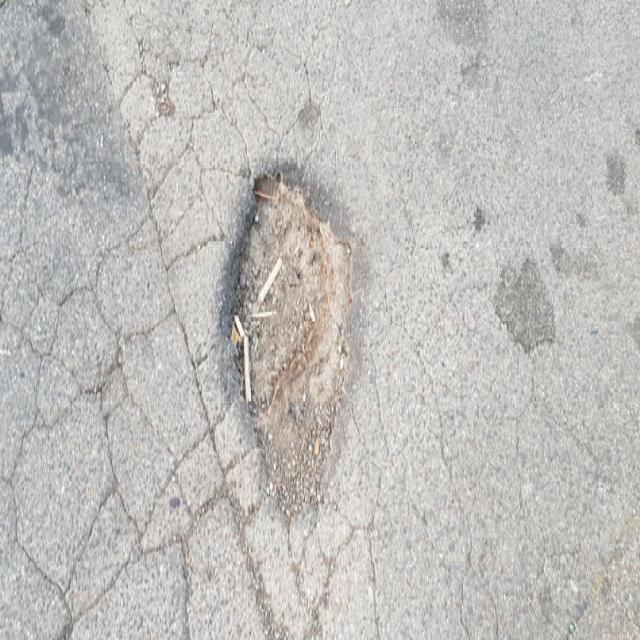Pothole: (218, 153, 365, 528)
